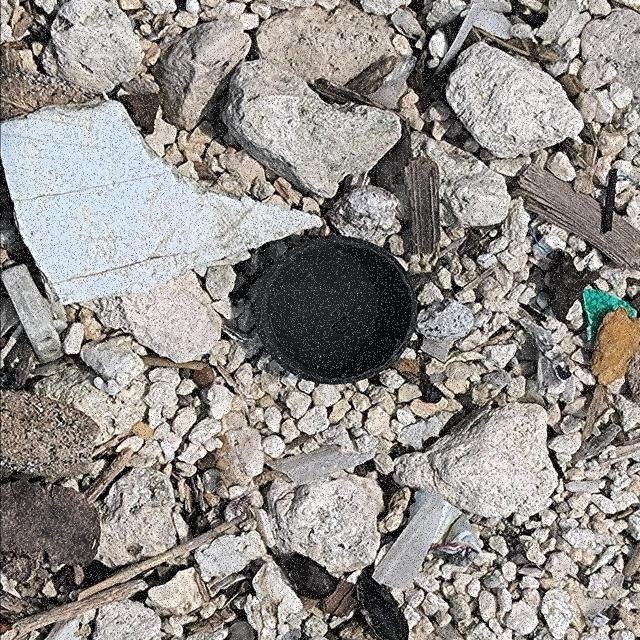plastic_waste: (252, 234, 420, 389)
